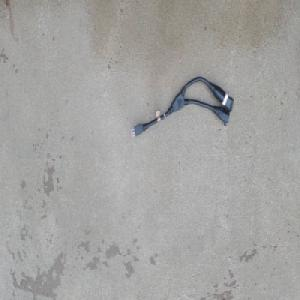Wire: (130, 75, 235, 138)
